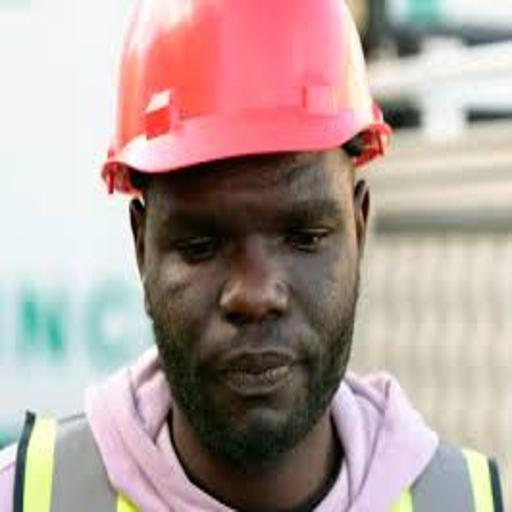Hard_hat: (94, 0, 420, 208)
Humans: (0, 88, 512, 512)
Vest: (6, 390, 512, 512)
